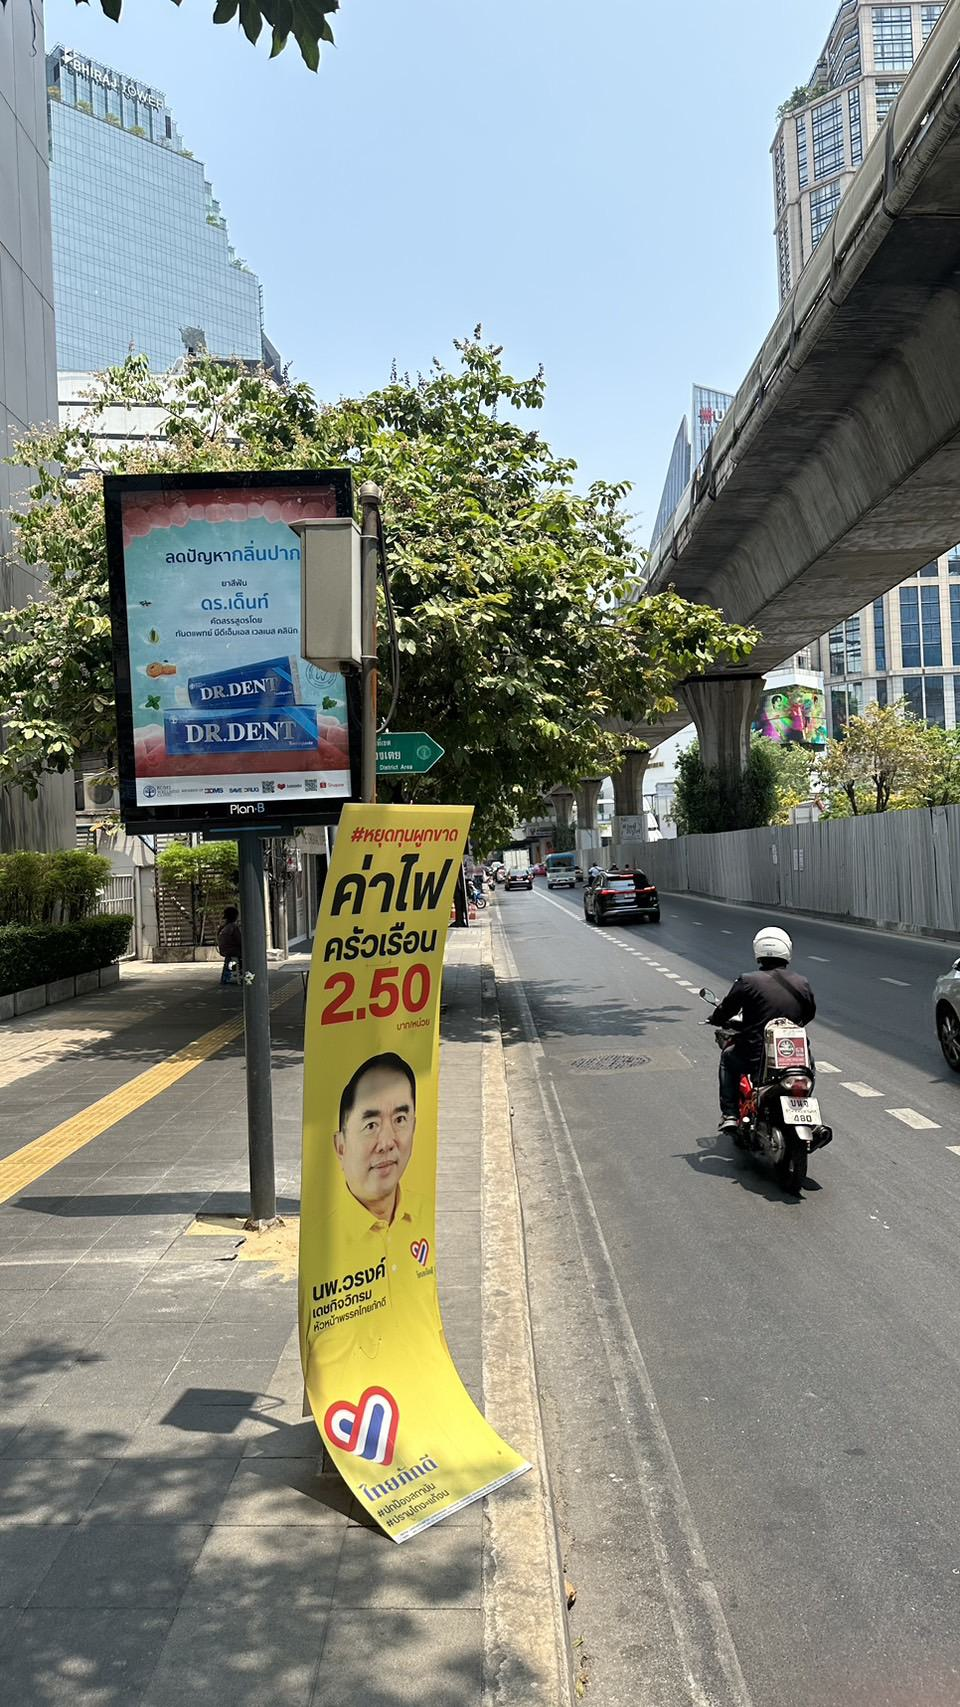Banner: (285, 796, 527, 1539)
